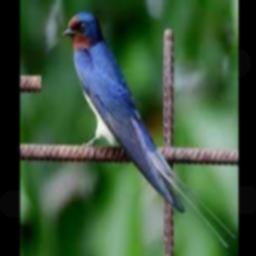Swallow: (62, 12, 236, 248)
